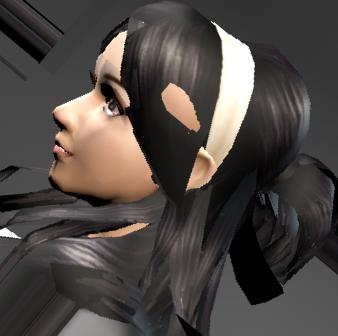clip: (163, 80, 200, 128)
